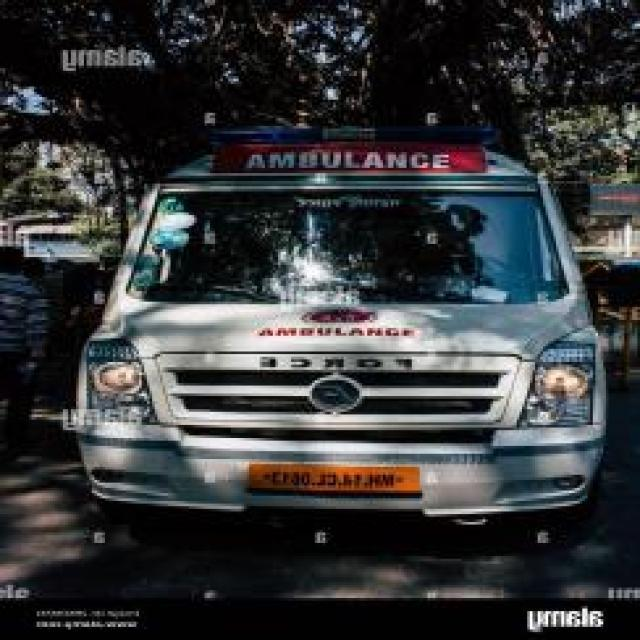Ambulance: (57, 115, 614, 538), (0, 364, 637, 608)
